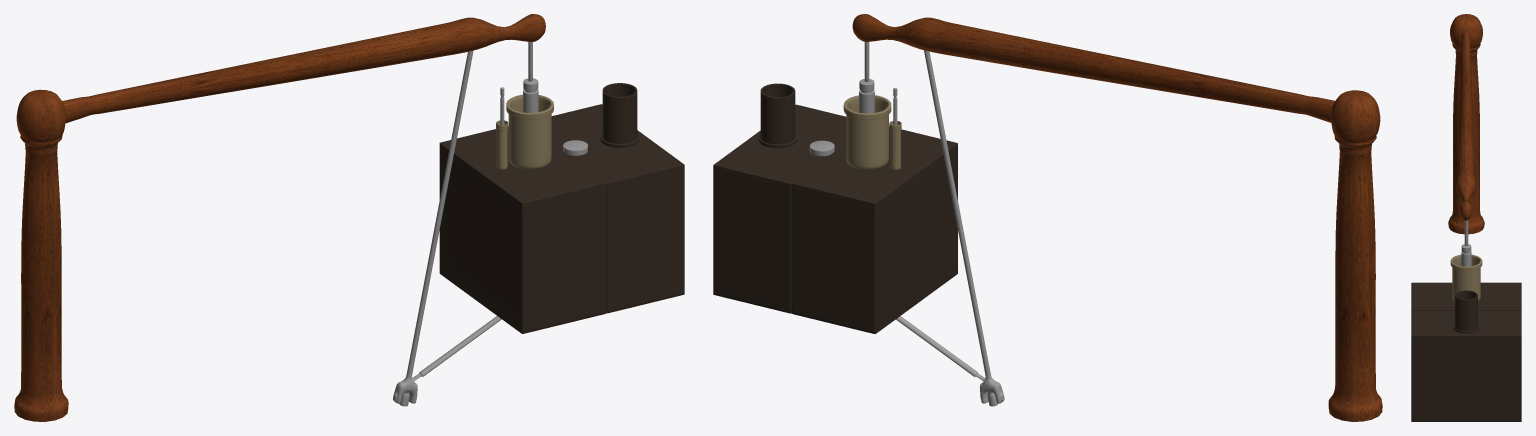
Rendered from Bikeengine.fbx.
3 views of the same model, side by side, from view 1: azimuth 30°, elevation 25°; view 2: azimuth 150°, elevation 25°; view 3: azimuth 270°, elevation 25° (orthographic). The views are drawn at different scales.
Parts seen in each view (by area): view 1: Subdivision_Surface_6, Subdivision_Surface_7, Loft_1, Loft_2, Cube_2, Subdivision_Surface_10, Subdivision_Surface_8; view 2: Subdivision_Surface_6, Subdivision_Surface_7, Loft_1, Loft_2, Cube_2, Subdivision_Surface_10, Subdivision_Surface_8; view 3: Subdivision_Surface_7, Loft_1, Loft_2, Subdivision_Surface_6, Subdivision_Surface_10, Subdivision_Surface_8, Subdivision_Surface_11.
Boxes of the visible parts, x1,y1,x2,y2 form: Subdivision_Surface_6: [439, 126, 606, 333]; Subdivision_Surface_7: [551, 104, 684, 313]; Loft_1: [14, 89, 68, 421]; Loft_2: [62, 14, 545, 123]; Cube_2: [393, 50, 501, 406]; Subdivision_Surface_10: [506, 94, 553, 169]; Subdivision_Surface_8: [602, 83, 637, 143]; Subdivision_Surface_6: [791, 126, 957, 333]; Subdivision_Surface_7: [713, 104, 846, 313]; Loft_1: [1328, 90, 1382, 421]; Loft_2: [852, 14, 1334, 122]; Cube_2: [896, 50, 1004, 406]; Subdivision_Surface_10: [843, 95, 891, 169]; Subdivision_Surface_8: [760, 83, 795, 144]; Subdivision_Surface_7: [1411, 310, 1521, 421]; Loft_1: [1448, 14, 1484, 234]; Loft_2: [1456, 31, 1475, 220]; Subdivision_Surface_6: [1411, 282, 1521, 310]; Subdivision_Surface_10: [1450, 254, 1482, 300]; Subdivision_Surface_8: [1455, 290, 1477, 330]; Subdivision_Surface_11: [1461, 244, 1471, 266].
Bounding box in the file's own units: 6.36 × 3.89 × 1.46.
